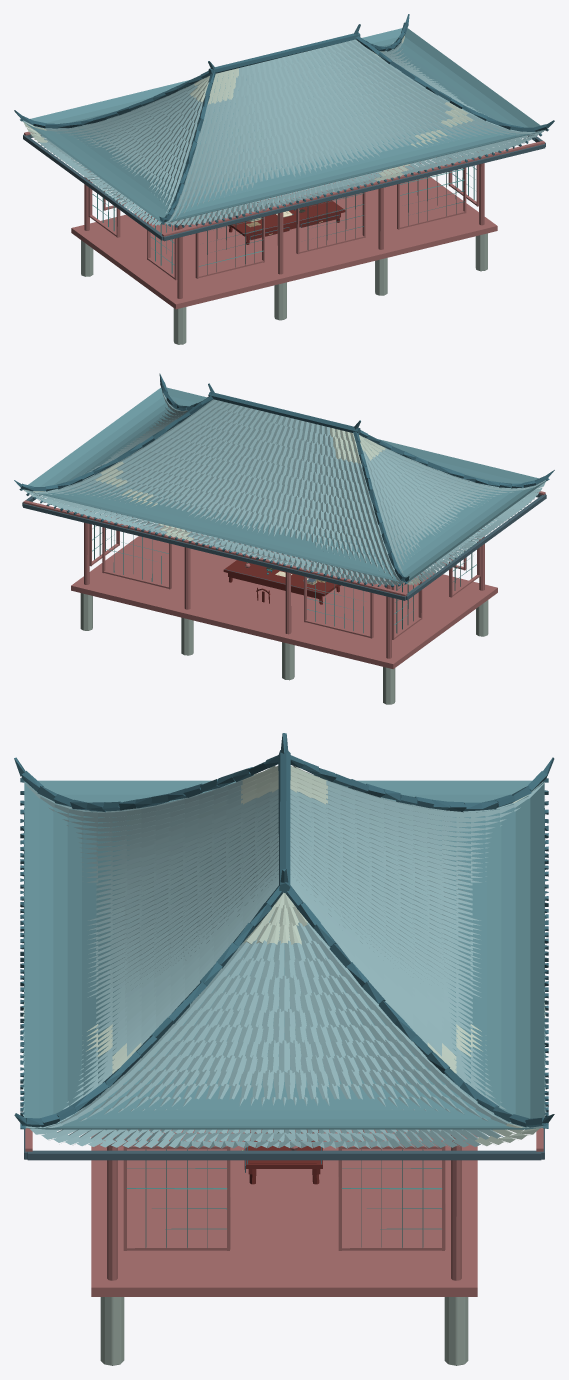
File: ouxiangxie.glb
The picture shows the model from 3 angles, top to bottom: view 1: azimuth 30°, elevation 25°; view 2: azimuth 150°, elevation 25°; view 3: azimuth 270°, elevation 25°; orthographic projection. The views are drawn at different scales.
Parts seen in each view (by area): view 1: r15_ouxiangxie_Sunwen_r18_waterside_tile.001, r15_ouxiangxie_Sunwen_r18_waterside_wood.001, r15_ouxiangxie_Sunwen_r18_waterside_roof.001, r15_ouxiangxie_Sunwen_r18_waterside_tiledark.001, r15_ouxiangxie_Sunwen_r18_waterside_darkwood.001, r15_ouxiangxie_Sunwen_r18_waterside_stone.001, r15_ouxiangxie_Sunwen_r18_waterside_tilelight.001, r15_ouxiangxie_Sunwen_r18_waterside_latticewood.001, r15_ouxiangxie_furniture; view 2: r15_ouxiangxie_Sunwen_r18_waterside_tile.001, r15_ouxiangxie_Sunwen_r18_waterside_wood.001, r15_ouxiangxie_Sunwen_r18_waterside_roof.001, r15_ouxiangxie_Sunwen_r18_waterside_tiledark.001, r15_ouxiangxie_Sunwen_r18_waterside_darkwood.001, r15_ouxiangxie_Sunwen_r18_waterside_stone.001, r15_ouxiangxie_Sunwen_r18_waterside_tilelight.001, r15_ouxiangxie_furniture, r15_ouxiangxie_Sunwen_r18_waterside_latticewood.001; view 3: r15_ouxiangxie_Sunwen_r18_waterside_tile.001, r15_ouxiangxie_Sunwen_r18_waterside_roof.001, r15_ouxiangxie_Sunwen_r18_waterside_wood.001, r15_ouxiangxie_Sunwen_r18_waterside_tiledark.001, r15_ouxiangxie_Sunwen_r18_waterside_darkwood.001, r15_ouxiangxie_Sunwen_r18_waterside_tilelight.001, r15_ouxiangxie_Sunwen_r18_waterside_stone.001, r15_ouxiangxie_Sunwen_r18_waterside_latticewood.001, r15_ouxiangxie_furniture.
Boxes of the visible parts, left/top/right/bottom form: r15_ouxiangxie_Sunwen_r18_waterside_tile.001: left=23, top=39, right=545, bottom=226; r15_ouxiangxie_Sunwen_r18_waterside_wood.001: left=24, top=131, right=544, bottom=309; r15_ouxiangxie_Sunwen_r18_waterside_roof.001: left=23, top=28, right=545, bottom=223; r15_ouxiangxie_Sunwen_r18_waterside_tiledark.001: left=14, top=14, right=554, bottom=227; r15_ouxiangxie_Sunwen_r18_waterside_darkwood.001: left=23, top=133, right=545, bottom=241; r15_ouxiangxie_Sunwen_r18_waterside_stone.001: left=81, top=233, right=487, bottom=344; r15_ouxiangxie_Sunwen_r18_waterside_tilelight.001: left=23, top=35, right=474, bottom=181; r15_ouxiangxie_Sunwen_r18_waterside_latticewood.001: left=92, top=155, right=476, bottom=274; r15_ouxiangxie_furniture: left=228, top=199, right=345, bottom=244; r15_ouxiangxie_Sunwen_r18_waterside_tile.001: left=22, top=391, right=546, bottom=585; r15_ouxiangxie_Sunwen_r18_waterside_wood.001: left=23, top=491, right=545, bottom=669; r15_ouxiangxie_Sunwen_r18_waterside_roof.001: left=23, top=387, right=546, bottom=583; r15_ouxiangxie_Sunwen_r18_waterside_tiledark.001: left=14, top=373, right=554, bottom=587; r15_ouxiangxie_Sunwen_r18_waterside_darkwood.001: left=22, top=494, right=546, bottom=600; r15_ouxiangxie_Sunwen_r18_waterside_stone.001: left=80, top=593, right=488, bottom=704; r15_ouxiangxie_Sunwen_r18_waterside_tilelight.001: left=24, top=410, right=420, bottom=585; r15_ouxiangxie_furniture: left=223, top=560, right=340, bottom=604; r15_ouxiangxie_Sunwen_r18_waterside_latticewood.001: left=92, top=514, right=476, bottom=633; r15_ouxiangxie_Sunwen_r18_waterside_tile.001: left=23, top=772, right=545, bottom=1148; r15_ouxiangxie_Sunwen_r18_waterside_roof.001: left=24, top=780, right=544, bottom=1129; r15_ouxiangxie_Sunwen_r18_waterside_wood.001: left=25, top=1128, right=543, bottom=1296; r15_ouxiangxie_Sunwen_r18_waterside_tiledark.001: left=14, top=733, right=554, bottom=1129; r15_ouxiangxie_Sunwen_r18_waterside_darkwood.001: left=24, top=808, right=544, bottom=1172; r15_ouxiangxie_Sunwen_r18_waterside_tilelight.001: left=23, top=766, right=545, bottom=1146; r15_ouxiangxie_Sunwen_r18_waterside_stone.001: left=100, top=1297, right=468, bottom=1365; r15_ouxiangxie_Sunwen_r18_waterside_latticewood.001: left=127, top=1149, right=441, bottom=1247; r15_ouxiangxie_furniture: left=244, top=1130, right=363, bottom=1184.
Size of the model in its own units: 19.64 by 10.88 by 12.58.
